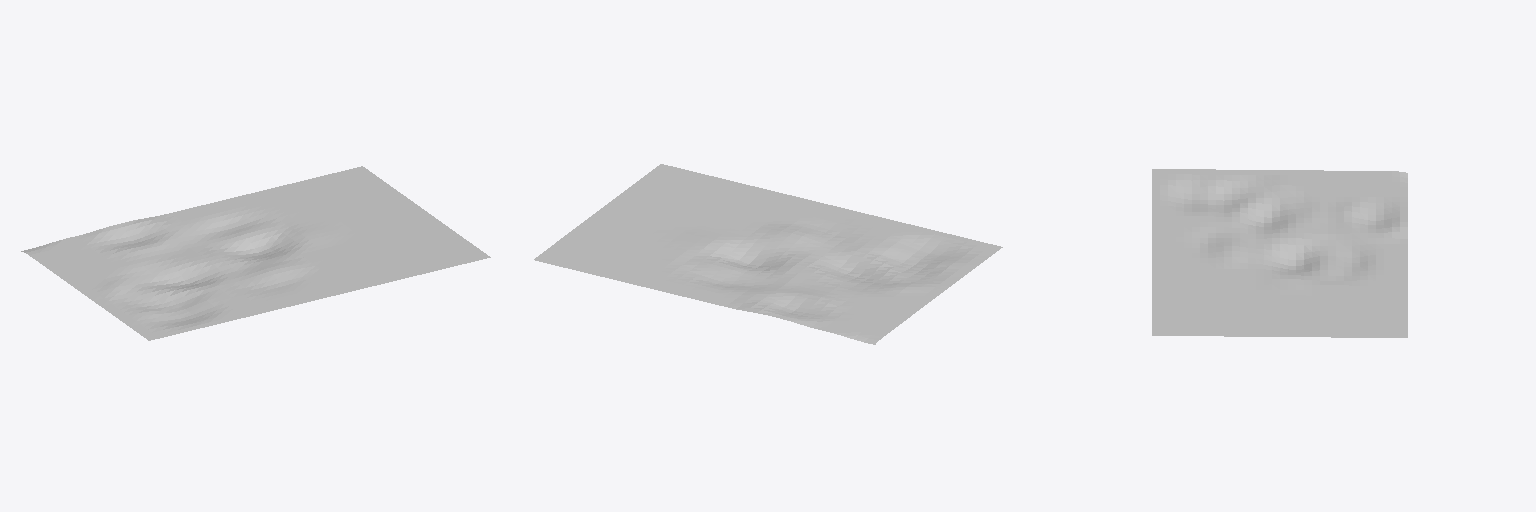
File: flor.obj
3 views of the same model, side by side, from view 1: azimuth 30°, elevation 25°; view 2: azimuth 150°, elevation 25°; view 3: azimuth 270°, elevation 25° (orthographic).
Parts seen in each view (by area): view 1: 平面.008; view 2: 平面.008; view 3: 平面.008.
Part boxes in pixels (x1,y1,x2,y2): 平面.008: (21,166,490,340); 平面.008: (534,164,1002,344); 平面.008: (1152,169,1407,337).
Bounding box in the file's own units: 13.35 × 0.3777 × 8.67.